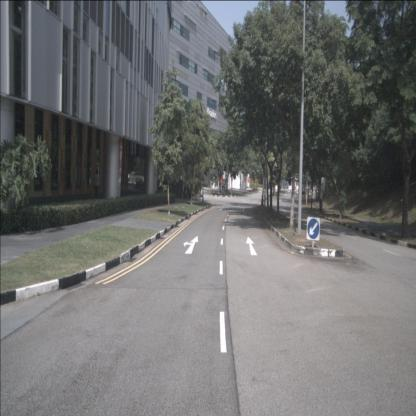barrier: (288, 185, 292, 190), (296, 185, 299, 190), (280, 184, 283, 189), (294, 185, 297, 190), (275, 185, 278, 189)
